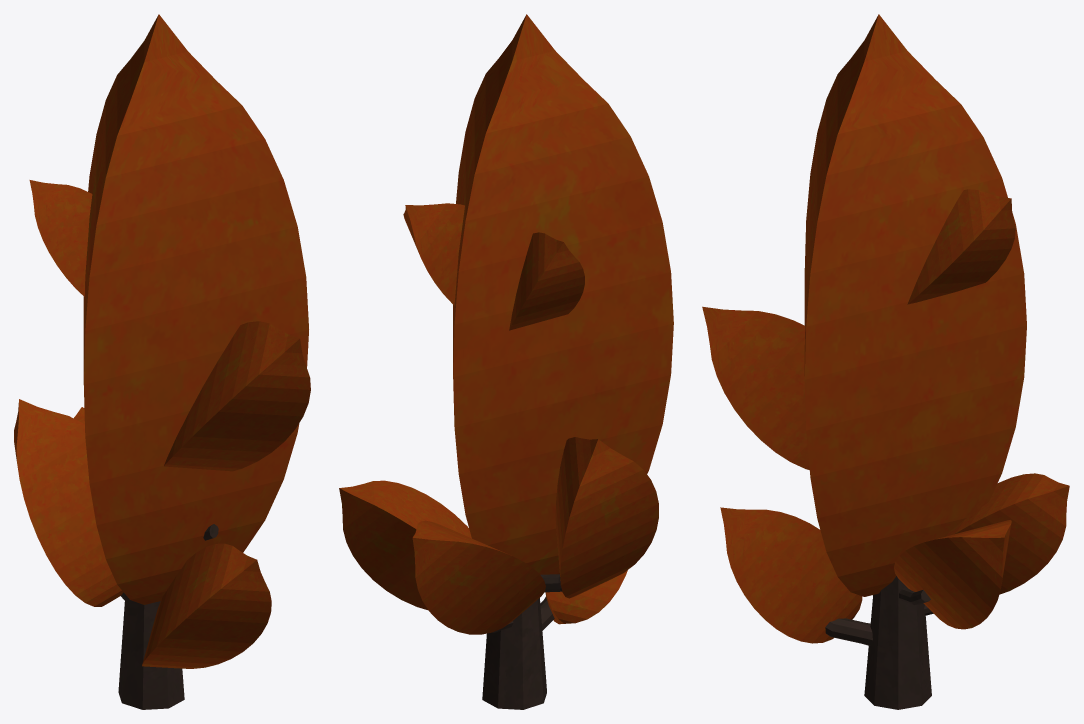
File: tree-green-orange-flowers_4.fbx
3 renders of one model, left to right at view 1: azimuth 30°, elevation 25°; view 2: azimuth 150°, elevation 25°; view 3: azimuth 270°, elevation 25°, orthographic. The views are drawn at different scales.
Visible parts, largest first — view 1: Icosphere.098; view 2: Icosphere.098; view 3: Icosphere.098.
Part boxes in pixels (x1,y1,x2,y2): Icosphere.098: (14, 14, 310, 709); Icosphere.098: (339, 14, 673, 709); Icosphere.098: (702, 14, 1069, 709).
Bounding box in the file's own units: 154 × 389 × 190.
